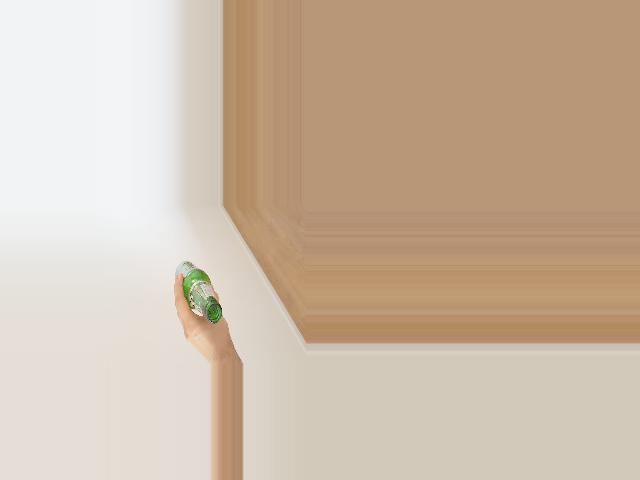beer: (176, 261, 223, 324)
